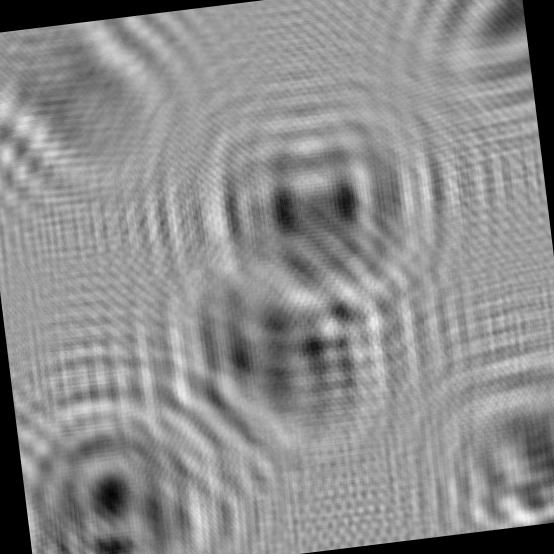E: (144, 67, 470, 338)
I: (0, 7, 221, 235)
K: (378, 310, 554, 540)
N: (110, 206, 442, 503)
R: (10, 352, 264, 554)
V: (376, 0, 538, 149)
